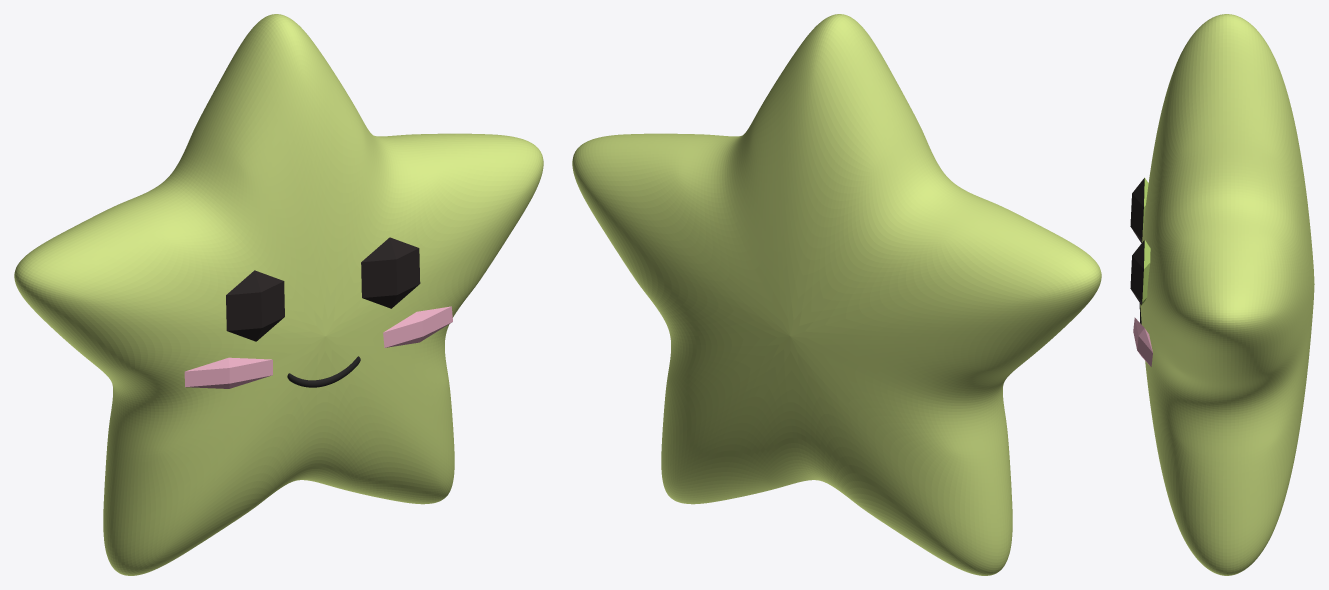
Rendered from ESTRELLA.fbx.
3 renders of one model, left to right at view 1: azimuth 30°, elevation 25°; view 2: azimuth 150°, elevation 25°; view 3: azimuth 270°, elevation 25°, orthographic. The views are drawn at different scales.
Visible parts, largest first — view 1: ESTRELLA_COMBINADA; view 2: ESTRELLA_COMBINADA; view 3: ESTRELLA_COMBINADA.
Part boxes in pixels (box(x1,y1,x2,y2)): ESTRELLA_COMBINADA: box(14, 14, 543, 575); ESTRELLA_COMBINADA: box(572, 14, 1101, 575); ESTRELLA_COMBINADA: box(1130, 14, 1314, 575).
Size of the model in its own units: 1.44 by 1.37 by 0.4678.
